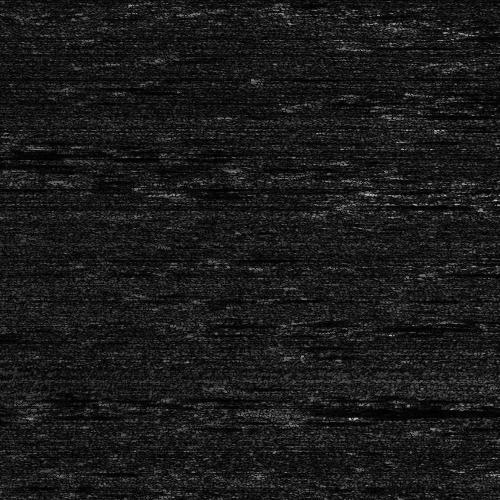object: (203, 402, 338, 415), (379, 112, 432, 117), (0, 144, 18, 157)
shadow: (270, 402, 469, 415), (0, 144, 70, 157), (406, 112, 500, 117), (0, 159, 35, 168)
